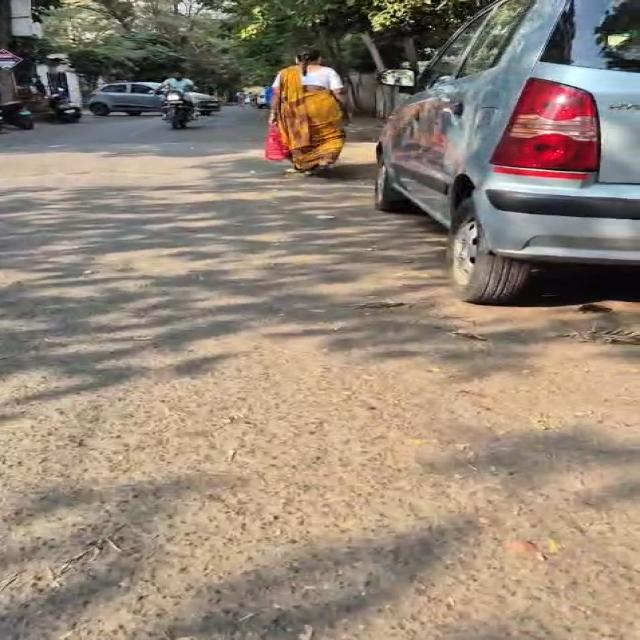bench: (377, 0, 639, 304), (88, 82, 163, 115), (256, 91, 270, 109)
bike: (271, 49, 345, 173), (158, 71, 195, 107), (160, 72, 195, 92), (264, 86, 274, 107), (236, 92, 245, 106)
